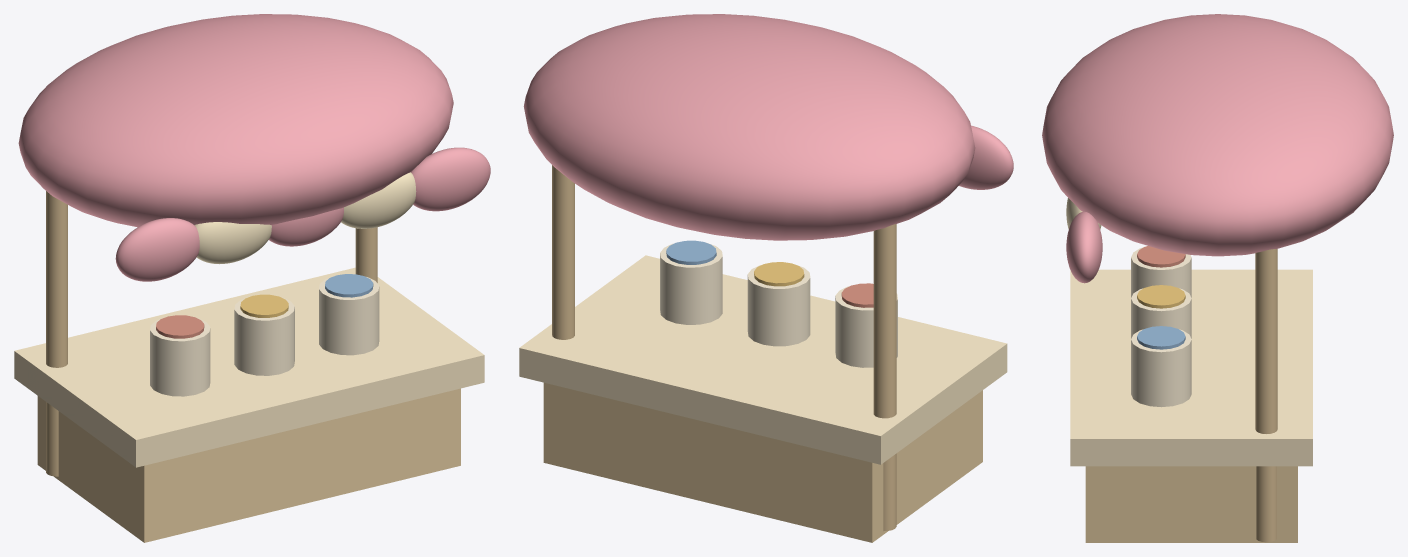
File: fair-colour-studio.glb
3 renders of one model, left to right at view 1: azimuth 30°, elevation 25°; view 2: azimuth 150°, elevation 25°; view 3: azimuth 270°, elevation 25°, orthographic. The views are drawn at different scales.
Parts seen in each view (by area): view 1: fair-colour-studio; view 2: fair-colour-studio; view 3: fair-colour-studio.
Part boxes in pixels (x1=…): fair-colour-studio: x1=14, y1=14, x2=490, y2=542; fair-colour-studio: x1=519, y1=14, x2=1013, y2=542; fair-colour-studio: x1=1042, y1=14, x2=1393, y2=542.
Bounding box in the file's own units: 2.26 × 2.21 × 1.74.
